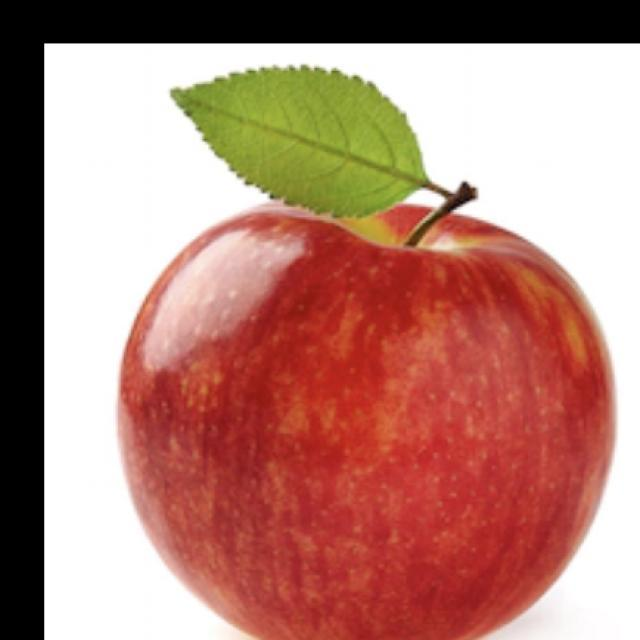Fresh Apple: (109, 66, 619, 640)
